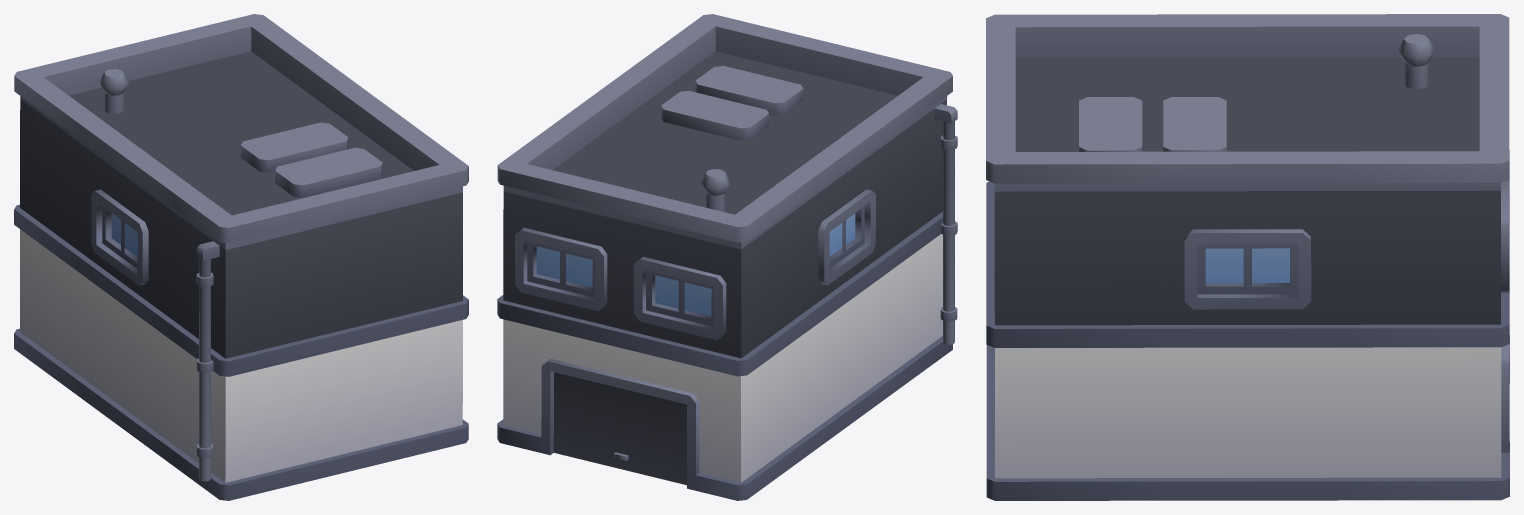
File: building-o_lev1.glb
3 views of the same model, side by side, from view 1: azimuth 30°, elevation 25°; view 2: azimuth 150°, elevation 25°; view 3: azimuth 270°, elevation 25° (orthographic). The views are drawn at different scales.
Parts seen in each view (by area): view 1: building-o_lev1; view 2: building-o_lev1; view 3: building-o_lev1.
Boxes of the visible parts, x1=… form: building-o_lev1: x1=14, y1=14, x2=468, y2=500; building-o_lev1: x1=497, y1=14, x2=957, y2=500; building-o_lev1: x1=986, y1=14, x2=1509, y2=500.
Bounding box in the file's own units: 0.8836 × 0.9197 × 1.24.
1 material, 1 textured.
